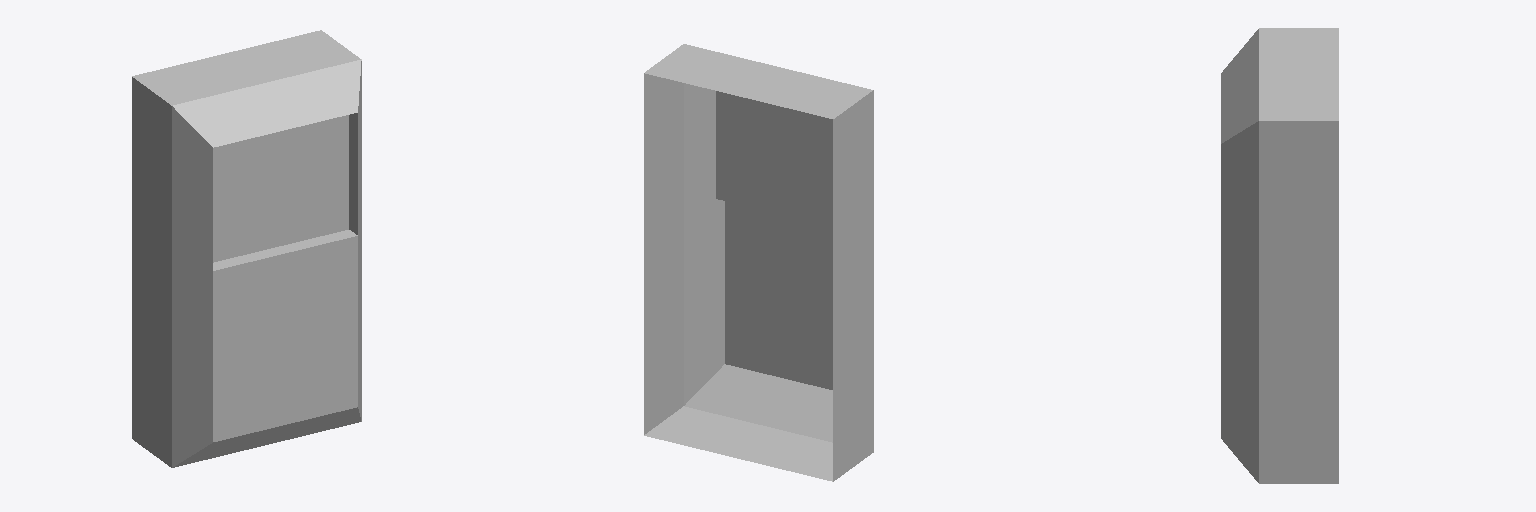
The model's file is buttonscanner.obj.
The picture shows the model from 3 angles: view 1: azimuth 30°, elevation 25°; view 2: azimuth 150°, elevation 25°; view 3: azimuth 270°, elevation 25°; orthographic projection.
Visible parts, largest first — view 1: MyObj; view 2: MyObj; view 3: MyObj.
Boxes of the visible parts, box(x1,y1,x2,y2) form: MyObj: box(132, 30, 361, 467); MyObj: box(644, 44, 873, 481); MyObj: box(1221, 28, 1338, 483).
Size of the model in its own units: 0.277 by 0.5055 by 0.1489.